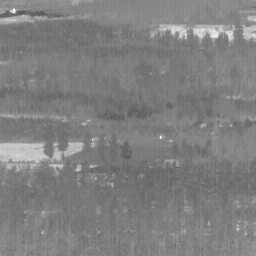aircraft: (112, 96, 114, 98)
